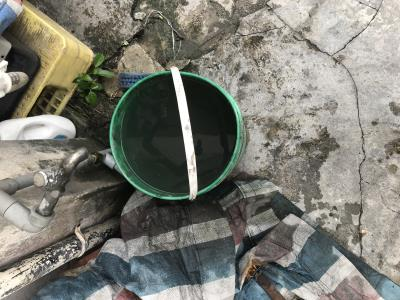bucket: (104, 64, 252, 203)
plastic_bag: (116, 193, 291, 300)
